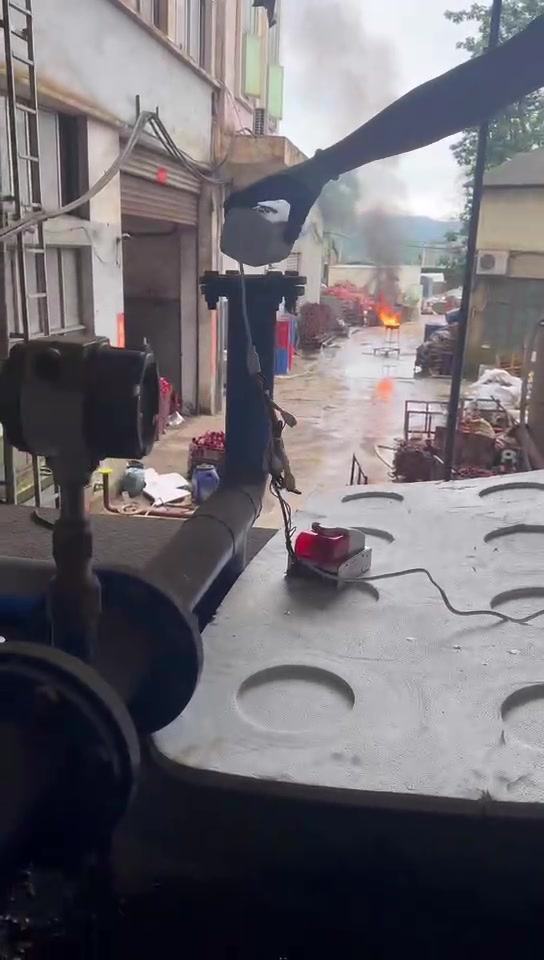fire: (378, 306, 400, 325)
